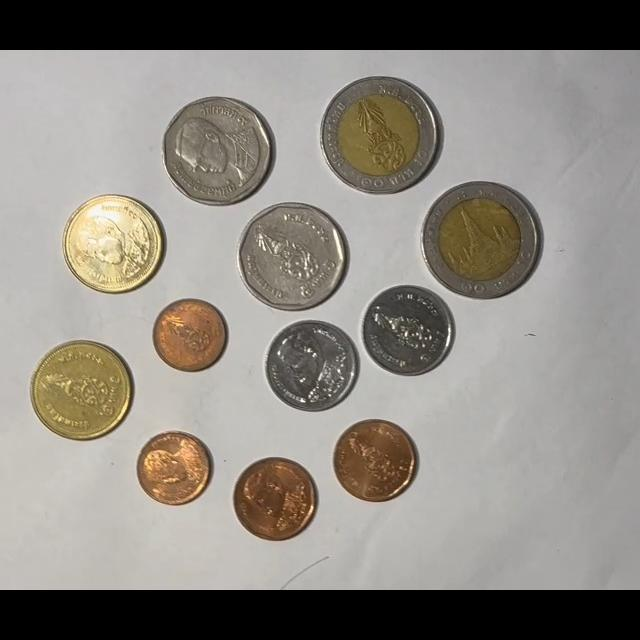1-baht: (361, 284, 455, 377), (263, 319, 357, 412)
10-baht: (320, 76, 441, 195), (421, 181, 541, 299)
2-baht: (30, 340, 133, 441), (62, 195, 163, 296)
25-satang: (136, 431, 213, 506), (153, 298, 227, 371)
5-baht: (162, 97, 275, 208), (236, 202, 348, 312)
50-satang: (232, 457, 317, 542), (332, 419, 416, 502)
